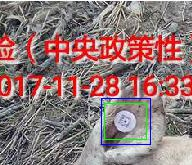text: (104, 103, 146, 139)
